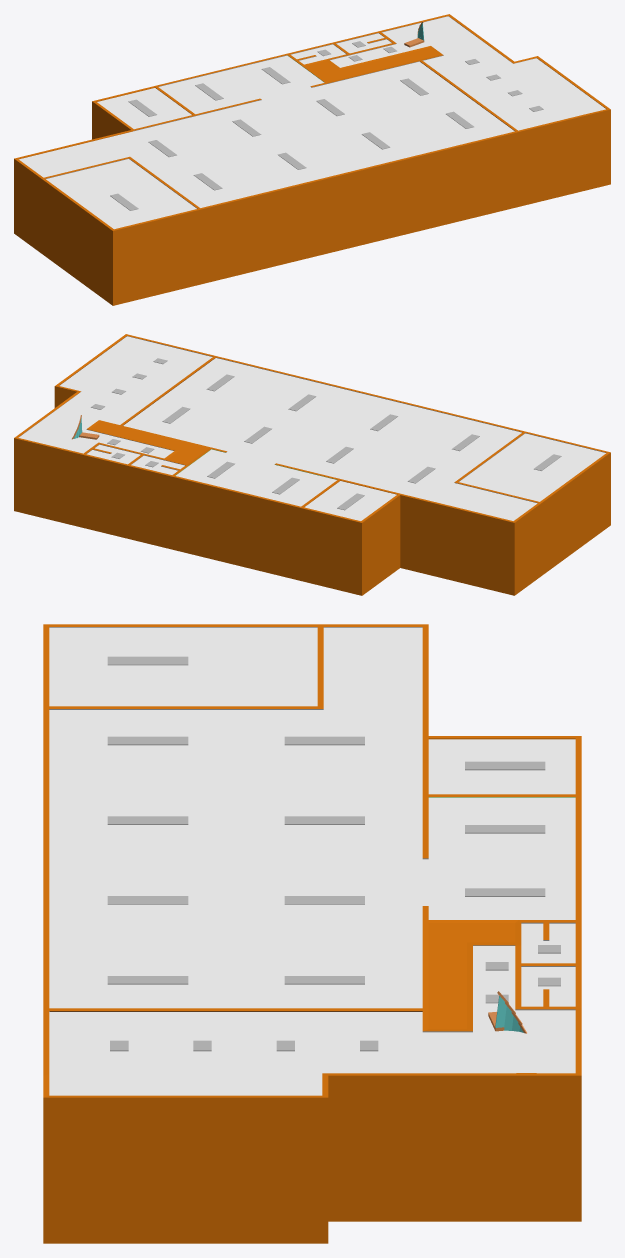
File: DSHwider.fbx
3 renders of one model, top to bottom at view 1: azimuth 30°, elevation 25°; view 2: azimuth 150°, elevation 25°; view 3: azimuth 270°, elevation 25°, orthographic. The views are drawn at different scales.
Visible parts, largest first — view 1: Celling, Walls, LightMainRoom, LightMainRoom.001, LightCafeteria; view 2: Celling, Walls, LightMainRoom, LightMainRoom.001, LightCafeteria; view 3: Celling, Walls, LightMainRoom, LightMainRoom.001, LightCafeteria, LightFirstCorridor.
Part boxes in pixels (left/top/right/bottom): Celling: left=19, top=16, right=605, bottom=229; Walls: left=14, top=14, right=610, bottom=305; LightMainRoom: left=110, top=111, right=473, bottom=210; LightMainRoom.001: left=148, top=78, right=428, bottom=157; LightCafeteria: left=128, top=67, right=290, bottom=116; Celling: left=18, top=336, right=605, bottom=520; Walls: left=14, top=334, right=610, bottom=595; LightMainRoom: left=206, top=374, right=561, bottom=470; LightMainRoom.001: left=162, top=406, right=435, bottom=483; LightCafeteria: left=207, top=461, right=364, bottom=510; Celling: left=49, top=627, right=575, bottom=1095; Walls: left=43, top=624, right=581, bottom=1243; LightMainRoom: left=107, top=656, right=188, bottom=984; LightMainRoom.001: left=284, top=736, right=364, bottom=984; LightCafeteria: left=465, top=761, right=545, bottom=896; LightFirstCorridor: left=110, top=1040, right=378, bottom=1051.
Size of the model in its own units: 2785 by 512 by 1339.
